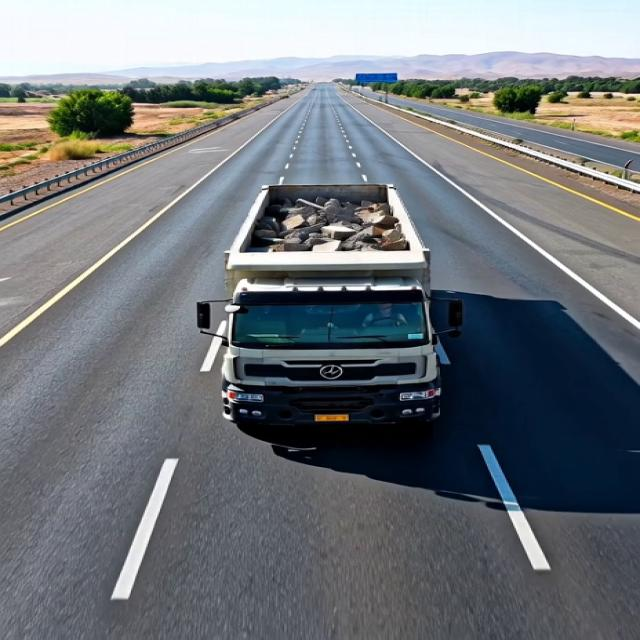Box: (214, 182, 442, 271)
Truck: (189, 170, 496, 444)
